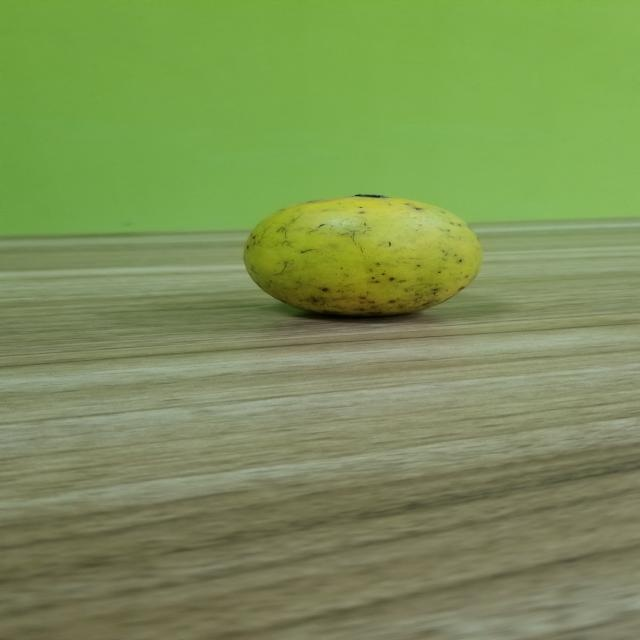agrume: (213, 194, 523, 327)
